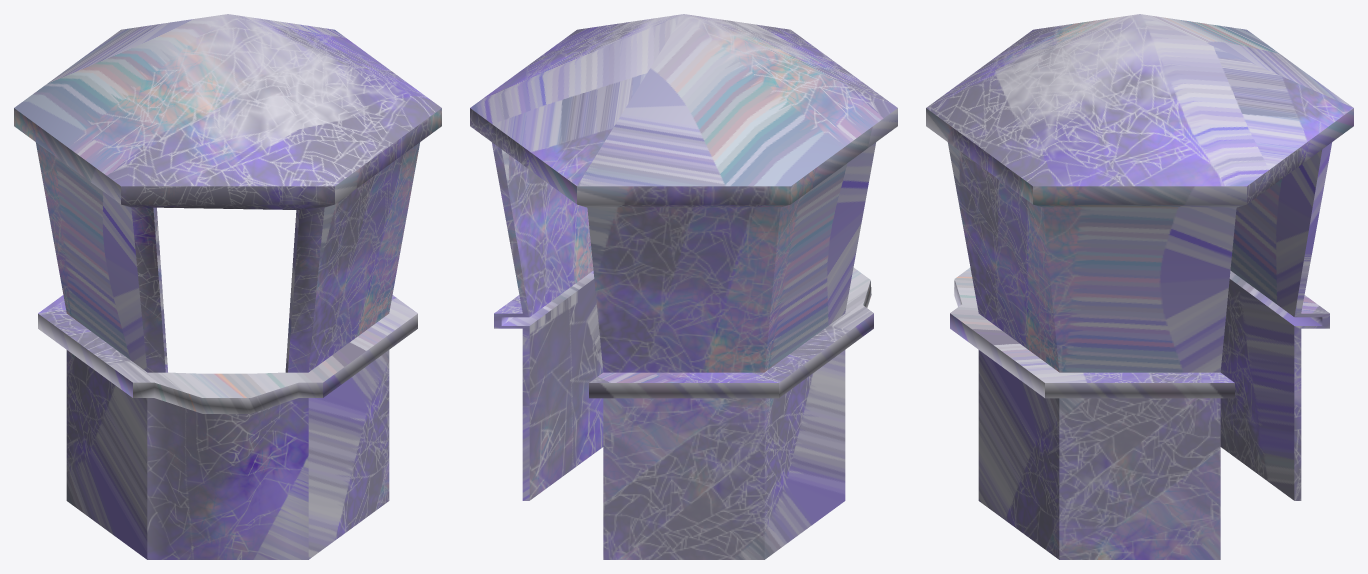
The model's file is KioskClean.fbx.
The picture shows the model from 3 angles, left to right: view 1: azimuth 30°, elevation 25°; view 2: azimuth 150°, elevation 25°; view 3: azimuth 270°, elevation 25°; orthographic projection.
Parts seen in each view (by area): view 1: KioskBoothv2; view 2: KioskBoothv2; view 3: KioskBoothv2.
Part boxes in pixels (x1,y1,x2,y2): KioskBoothv2: (14, 14, 441, 559); KioskBoothv2: (470, 14, 897, 559); KioskBoothv2: (926, 14, 1353, 559).
Bounding box in the file's own units: 288 × 418 × 333.
